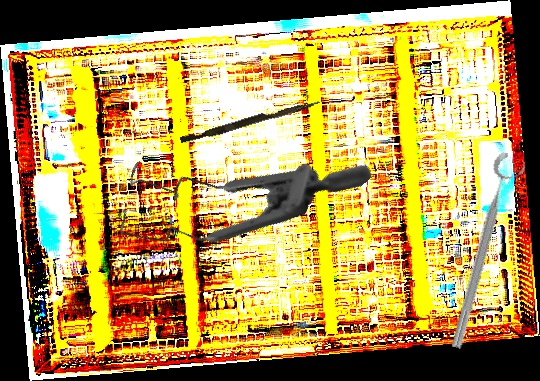Fixation Ring: (445, 150, 530, 354)
Pusher: (179, 95, 321, 147)
Speculum: (91, 51, 375, 324)
